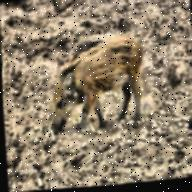boar: (44, 38, 157, 129)
